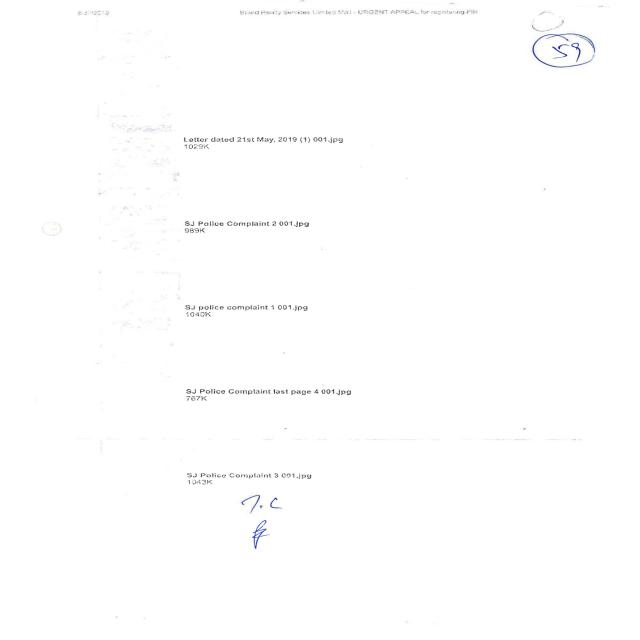page-number: (497, 33, 640, 103)
